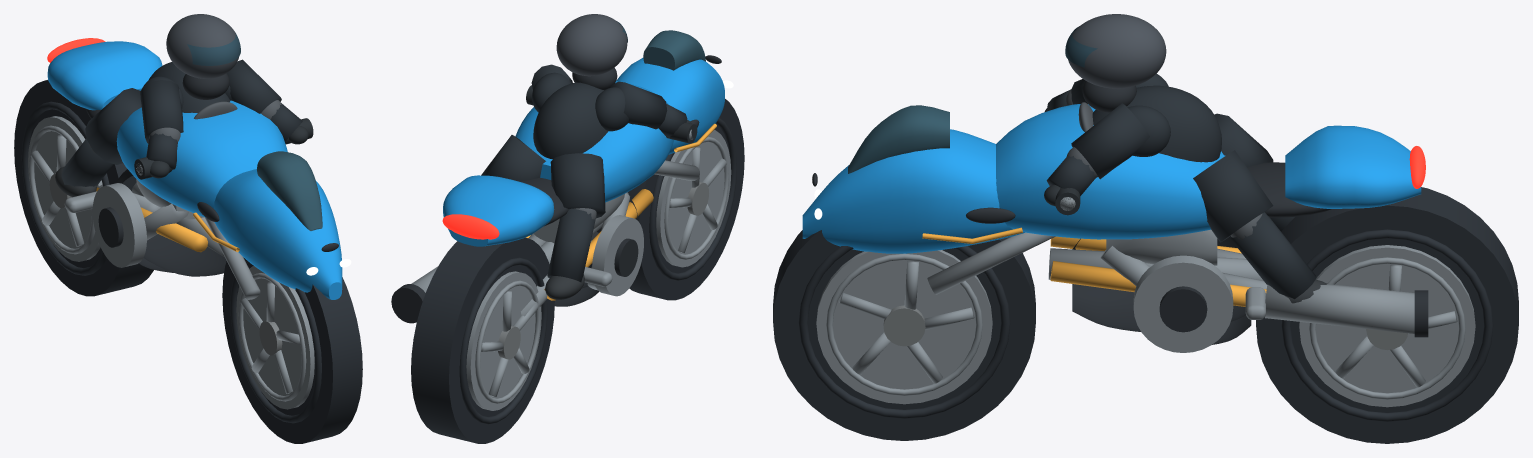
The model's file is bike_vector.glb.
3 renders of one model, left to right at view 1: azimuth 30°, elevation 25°; view 2: azimuth 150°, elevation 25°; view 3: azimuth 270°, elevation 25°, orthographic. The views are drawn at different scales.
Parts seen in each view (by area): view 1: Blender Vehicle - Vector Trackbike.016 - Vehicle Body, WheelMesh_BikeWheel_Front_bike_vector.016, WheelMesh_BikeWheel_Rear_bike_vector.016; view 2: Blender Vehicle - Vector Trackbike.016 - Vehicle Body, WheelMesh_BikeWheel_Rear_bike_vector.016, WheelMesh_BikeWheel_Front_bike_vector.016; view 3: Blender Vehicle - Vector Trackbike.016 - Vehicle Body, WheelMesh_BikeWheel_Rear_bike_vector.016, WheelMesh_BikeWheel_Front_bike_vector.016.
Part boxes in pixels (x1,y1,x2,y2): Blender Vehicle - Vector Trackbike.016 - Vehicle Body: (47,14,351,299); WheelMesh_BikeWheel_Front_bike_vector.016: (222,257,362,443); WheelMesh_BikeWheel_Rear_bike_vector.016: (14,80,153,296); Blender Vehicle - Vector Trackbike.016 - Vehicle Body: (391,14,733,323); WheelMesh_BikeWheel_Rear_bike_vector.016: (411,237,554,443); WheelMesh_BikeWheel_Front_bike_vector.016: (627,99,744,300); Blender Vehicle - Vector Trackbike.016 - Vehicle Body: (802,14,1428,352); WheelMesh_BikeWheel_Rear_bike_vector.016: (1256,187,1518,443); WheelMesh_BikeWheel_Front_bike_vector.016: (773,230,1035,440).
Size of the model in its own units: 1.02 by 2.01 by 3.29.
